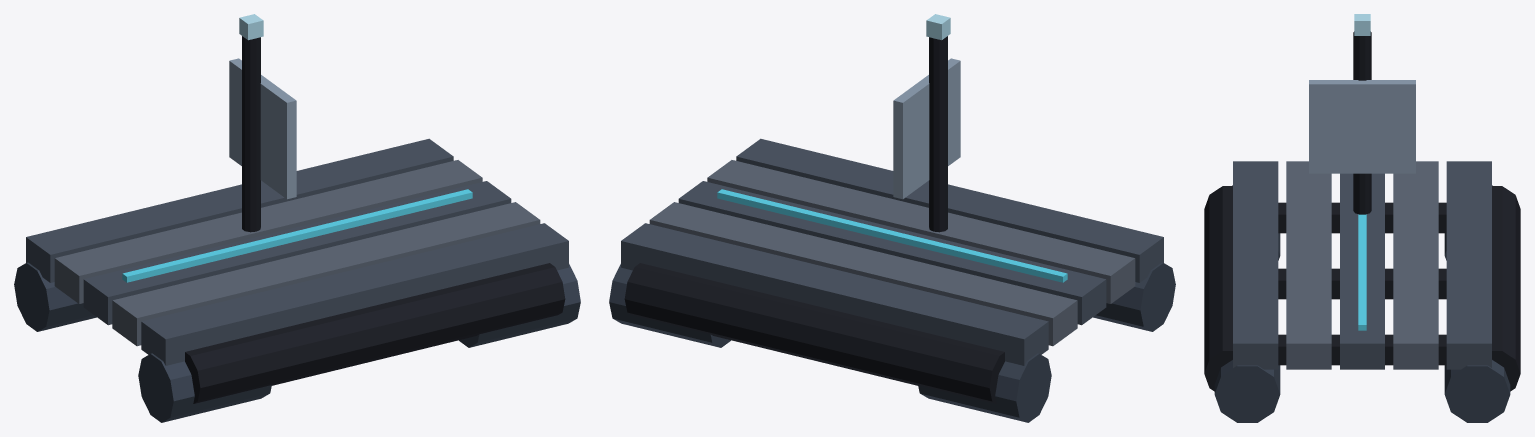
File: Phantom_Raft.obj
3 renders of one model, left to right at view 1: azimuth 30°, elevation 25°; view 2: azimuth 150°, elevation 25°; view 3: azimuth 270°, elevation 25°, orthographic. The views are drawn at different scales.
Parts seen in each view (by area): view 1: Phantom_Raft; view 2: Phantom_Raft; view 3: Phantom_Raft.
Part boxes in pixels (bbox=[...]): Phantom_Raft: bbox=[14, 14, 580, 422]; Phantom_Raft: bbox=[609, 14, 1175, 422]; Phantom_Raft: bbox=[1204, 14, 1520, 422].
Bounding box in the file's own units: 1.06 × 0.7861 × 0.77.
